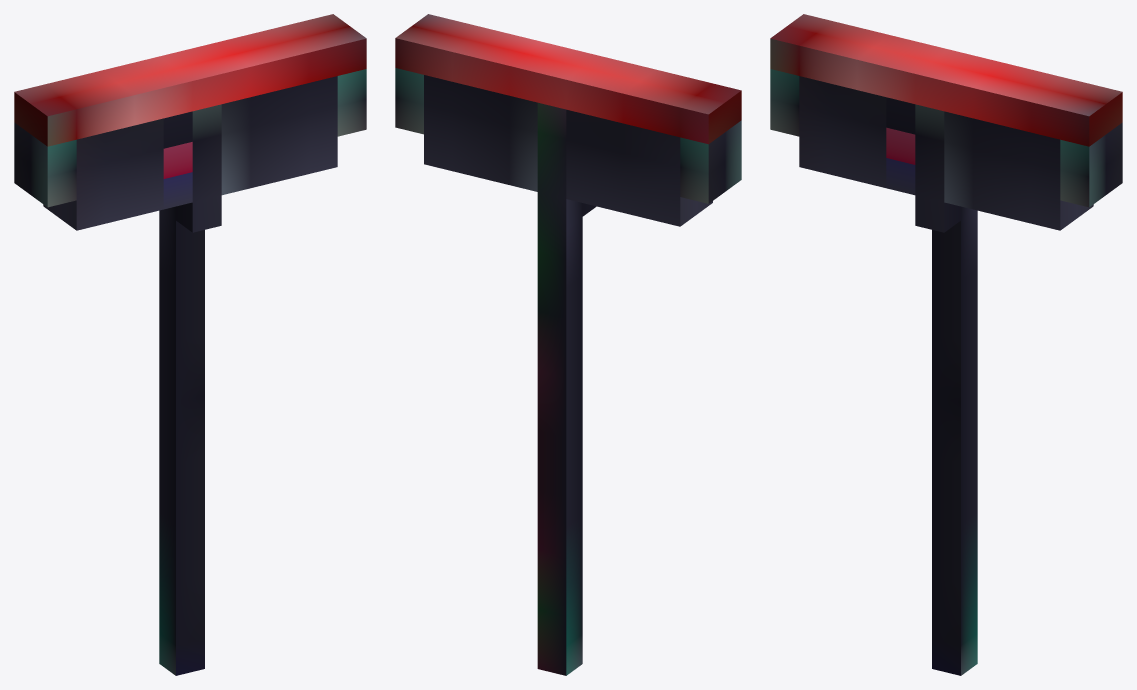
Rendered from Neon_Red_00.fbx.
3 renders of one model, left to right at view 1: azimuth 30°, elevation 25°; view 2: azimuth 150°, elevation 25°; view 3: azimuth 330°, elevation 25°, orthographic.
Parts seen in each view (by area): view 1: Neon_Red_00; view 2: Neon_Red_00; view 3: Neon_Red_00.
Boxes of the visible parts, bbox=[...] form: Neon_Red_00: bbox=[14, 14, 366, 675]; Neon_Red_00: bbox=[395, 14, 741, 675]; Neon_Red_00: bbox=[770, 14, 1122, 675].
Size of the model in its own units: 55 by 100 by 10.
